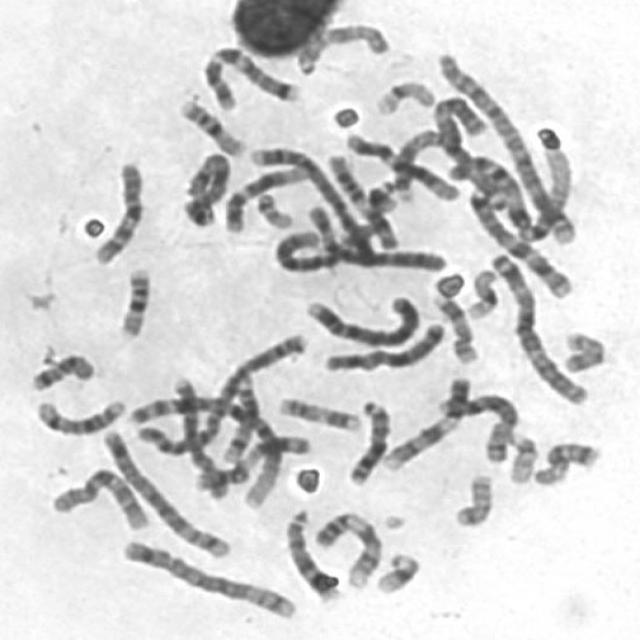A1: (123, 386, 292, 511), (449, 146, 578, 246)
A2: (428, 46, 580, 249), (128, 324, 312, 458)
A3: (482, 246, 592, 407), (424, 87, 509, 210)
B4: (242, 140, 380, 266), (298, 288, 422, 350)
B5: (95, 423, 231, 562), (116, 533, 300, 622)
C10: (44, 460, 152, 533), (86, 154, 148, 267)
C11: (321, 149, 399, 252), (187, 429, 312, 493)
C12: (339, 127, 464, 203), (219, 157, 311, 235)
C6: (297, 200, 450, 275), (292, 208, 448, 274)
C7: (461, 180, 578, 301), (195, 39, 304, 111)
C8: (165, 368, 232, 501), (433, 384, 521, 465)
C9: (375, 369, 475, 474), (307, 506, 385, 590)
D13: (278, 502, 343, 602), (342, 392, 392, 488)
D14: (28, 391, 128, 437), (215, 372, 264, 464)
D15: (387, 124, 455, 204), (295, 24, 391, 76)
E16: (172, 93, 248, 158), (110, 262, 154, 340)
E17: (270, 390, 364, 435), (427, 289, 480, 366)
E18: (527, 434, 602, 488), (23, 346, 98, 394)
F19: (368, 73, 438, 117), (459, 263, 502, 322)
F20: (447, 468, 496, 529), (556, 325, 608, 375)
G21: (369, 546, 422, 596), (361, 178, 398, 214)
G22: (502, 426, 540, 486), (250, 186, 296, 230)
X: (316, 315, 448, 375), (175, 146, 232, 229)
